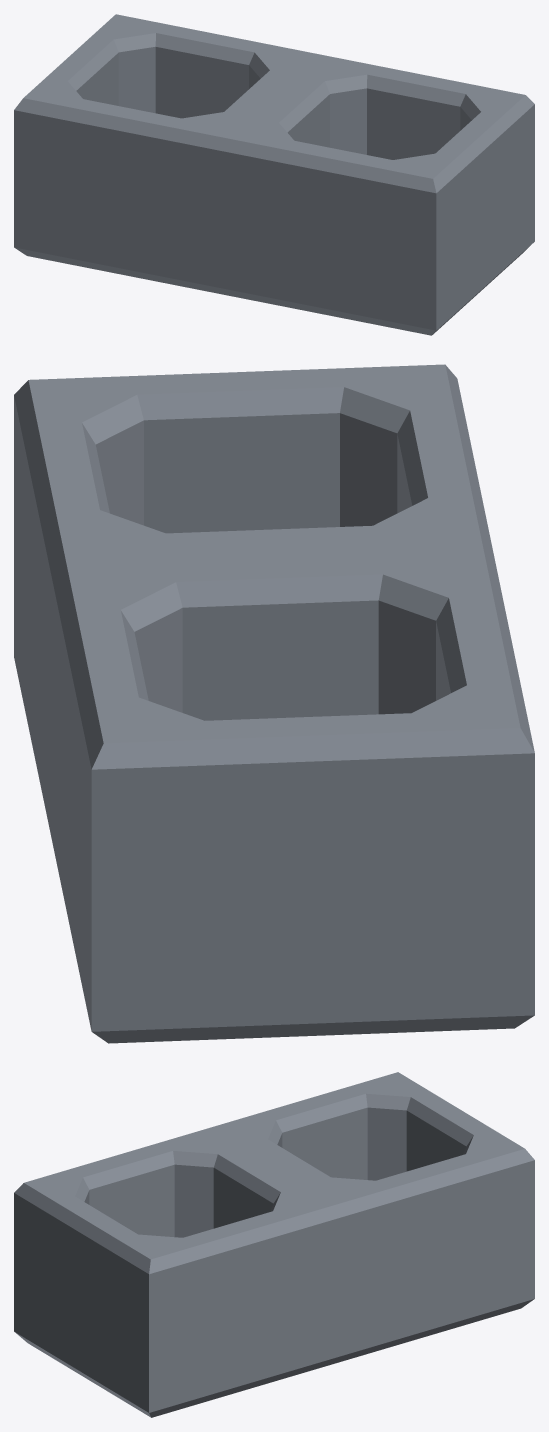
File: brick_a.gltf
3 views of the same model, one above another, from view 1: azimuth 30°, elevation 25°; view 2: azimuth 150°, elevation 25°; view 3: azimuth 270°, elevation 25° (orthographic). The views are drawn at different scales.
Visible parts, largest first — view 1: brick_a001; view 2: brick_a001; view 3: brick_a001.
Part boxes in pixels (x1,y1,x2,y2): brick_a001: [14, 14, 534, 335]; brick_a001: [14, 364, 534, 1043]; brick_a001: [14, 1072, 534, 1417].
Size of the model in its own units: 0.3933 by 0.1499 by 0.4424.
1 material, 1 textured.
